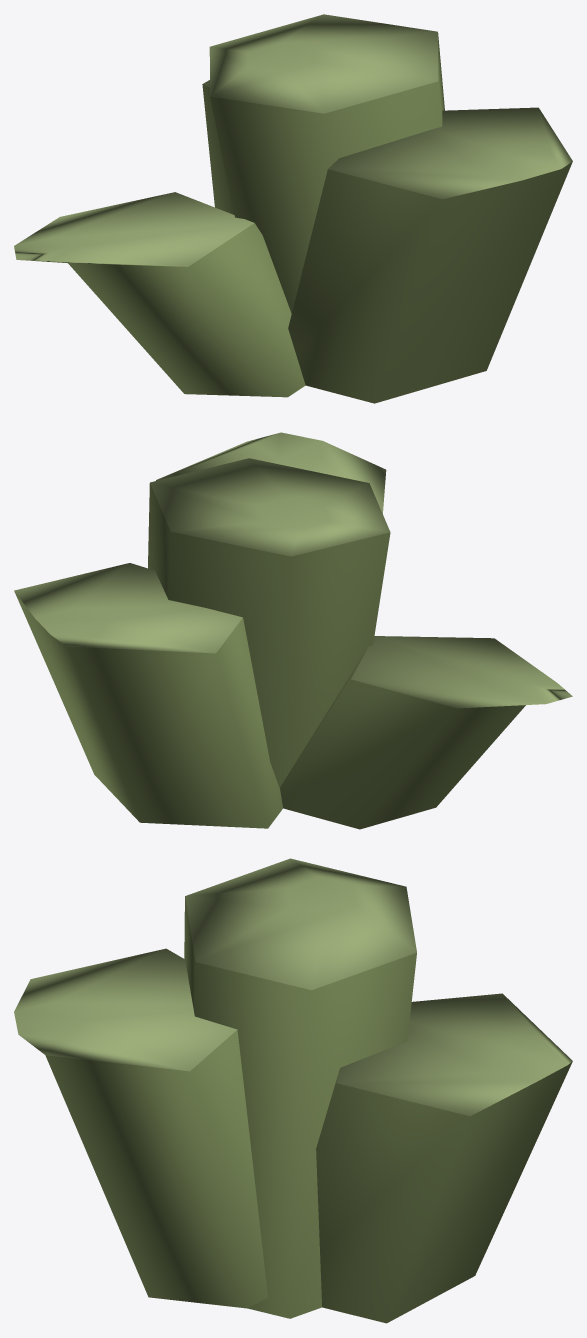
File: gf_clump_05.glb
3 renders of one model, top to bottom at view 1: azimuth 30°, elevation 25°; view 2: azimuth 150°, elevation 25°; view 3: azimuth 270°, elevation 25°, orthographic. The views are drawn at different scales.
Parts seen in each view (by area): view 1: gf_clump_05; view 2: gf_clump_05; view 3: gf_clump_05.
Part boxes in pixels (x1,y1,x2,y2): gf_clump_05: [14, 14, 572, 403]; gf_clump_05: [14, 432, 572, 829]; gf_clump_05: [14, 858, 572, 1323].
Size of the model in its own units: 0.2017 by 0.112 by 0.1725.
